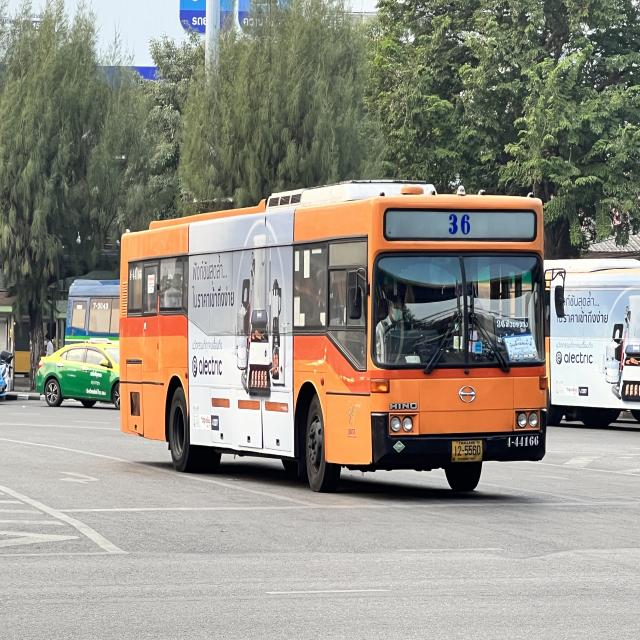BMTA-bus: (117, 182, 551, 495)
Bus Line Number: (444, 205, 474, 238)
Bus Side Number: (505, 432, 542, 449)
Destination Sign: (494, 314, 533, 350)
